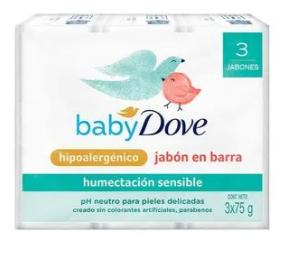brand: (142, 110, 215, 139)
extra_detail: (150, 148, 248, 167)
net_weight: (223, 197, 259, 219)
product_name: (73, 112, 140, 139)
